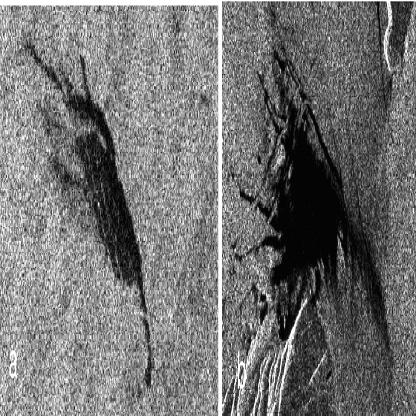oil: (240, 45, 402, 386), (26, 31, 168, 397)
